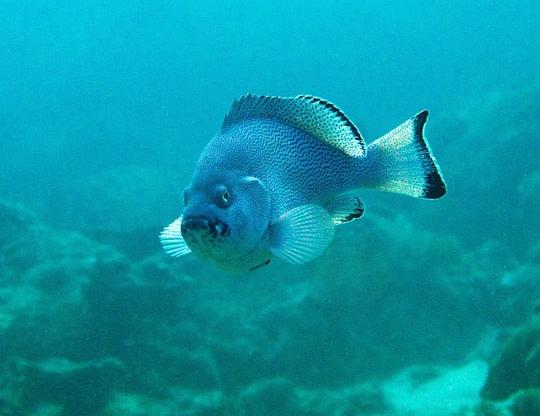Serranidae -Groupers-: (153, 90, 452, 277)
